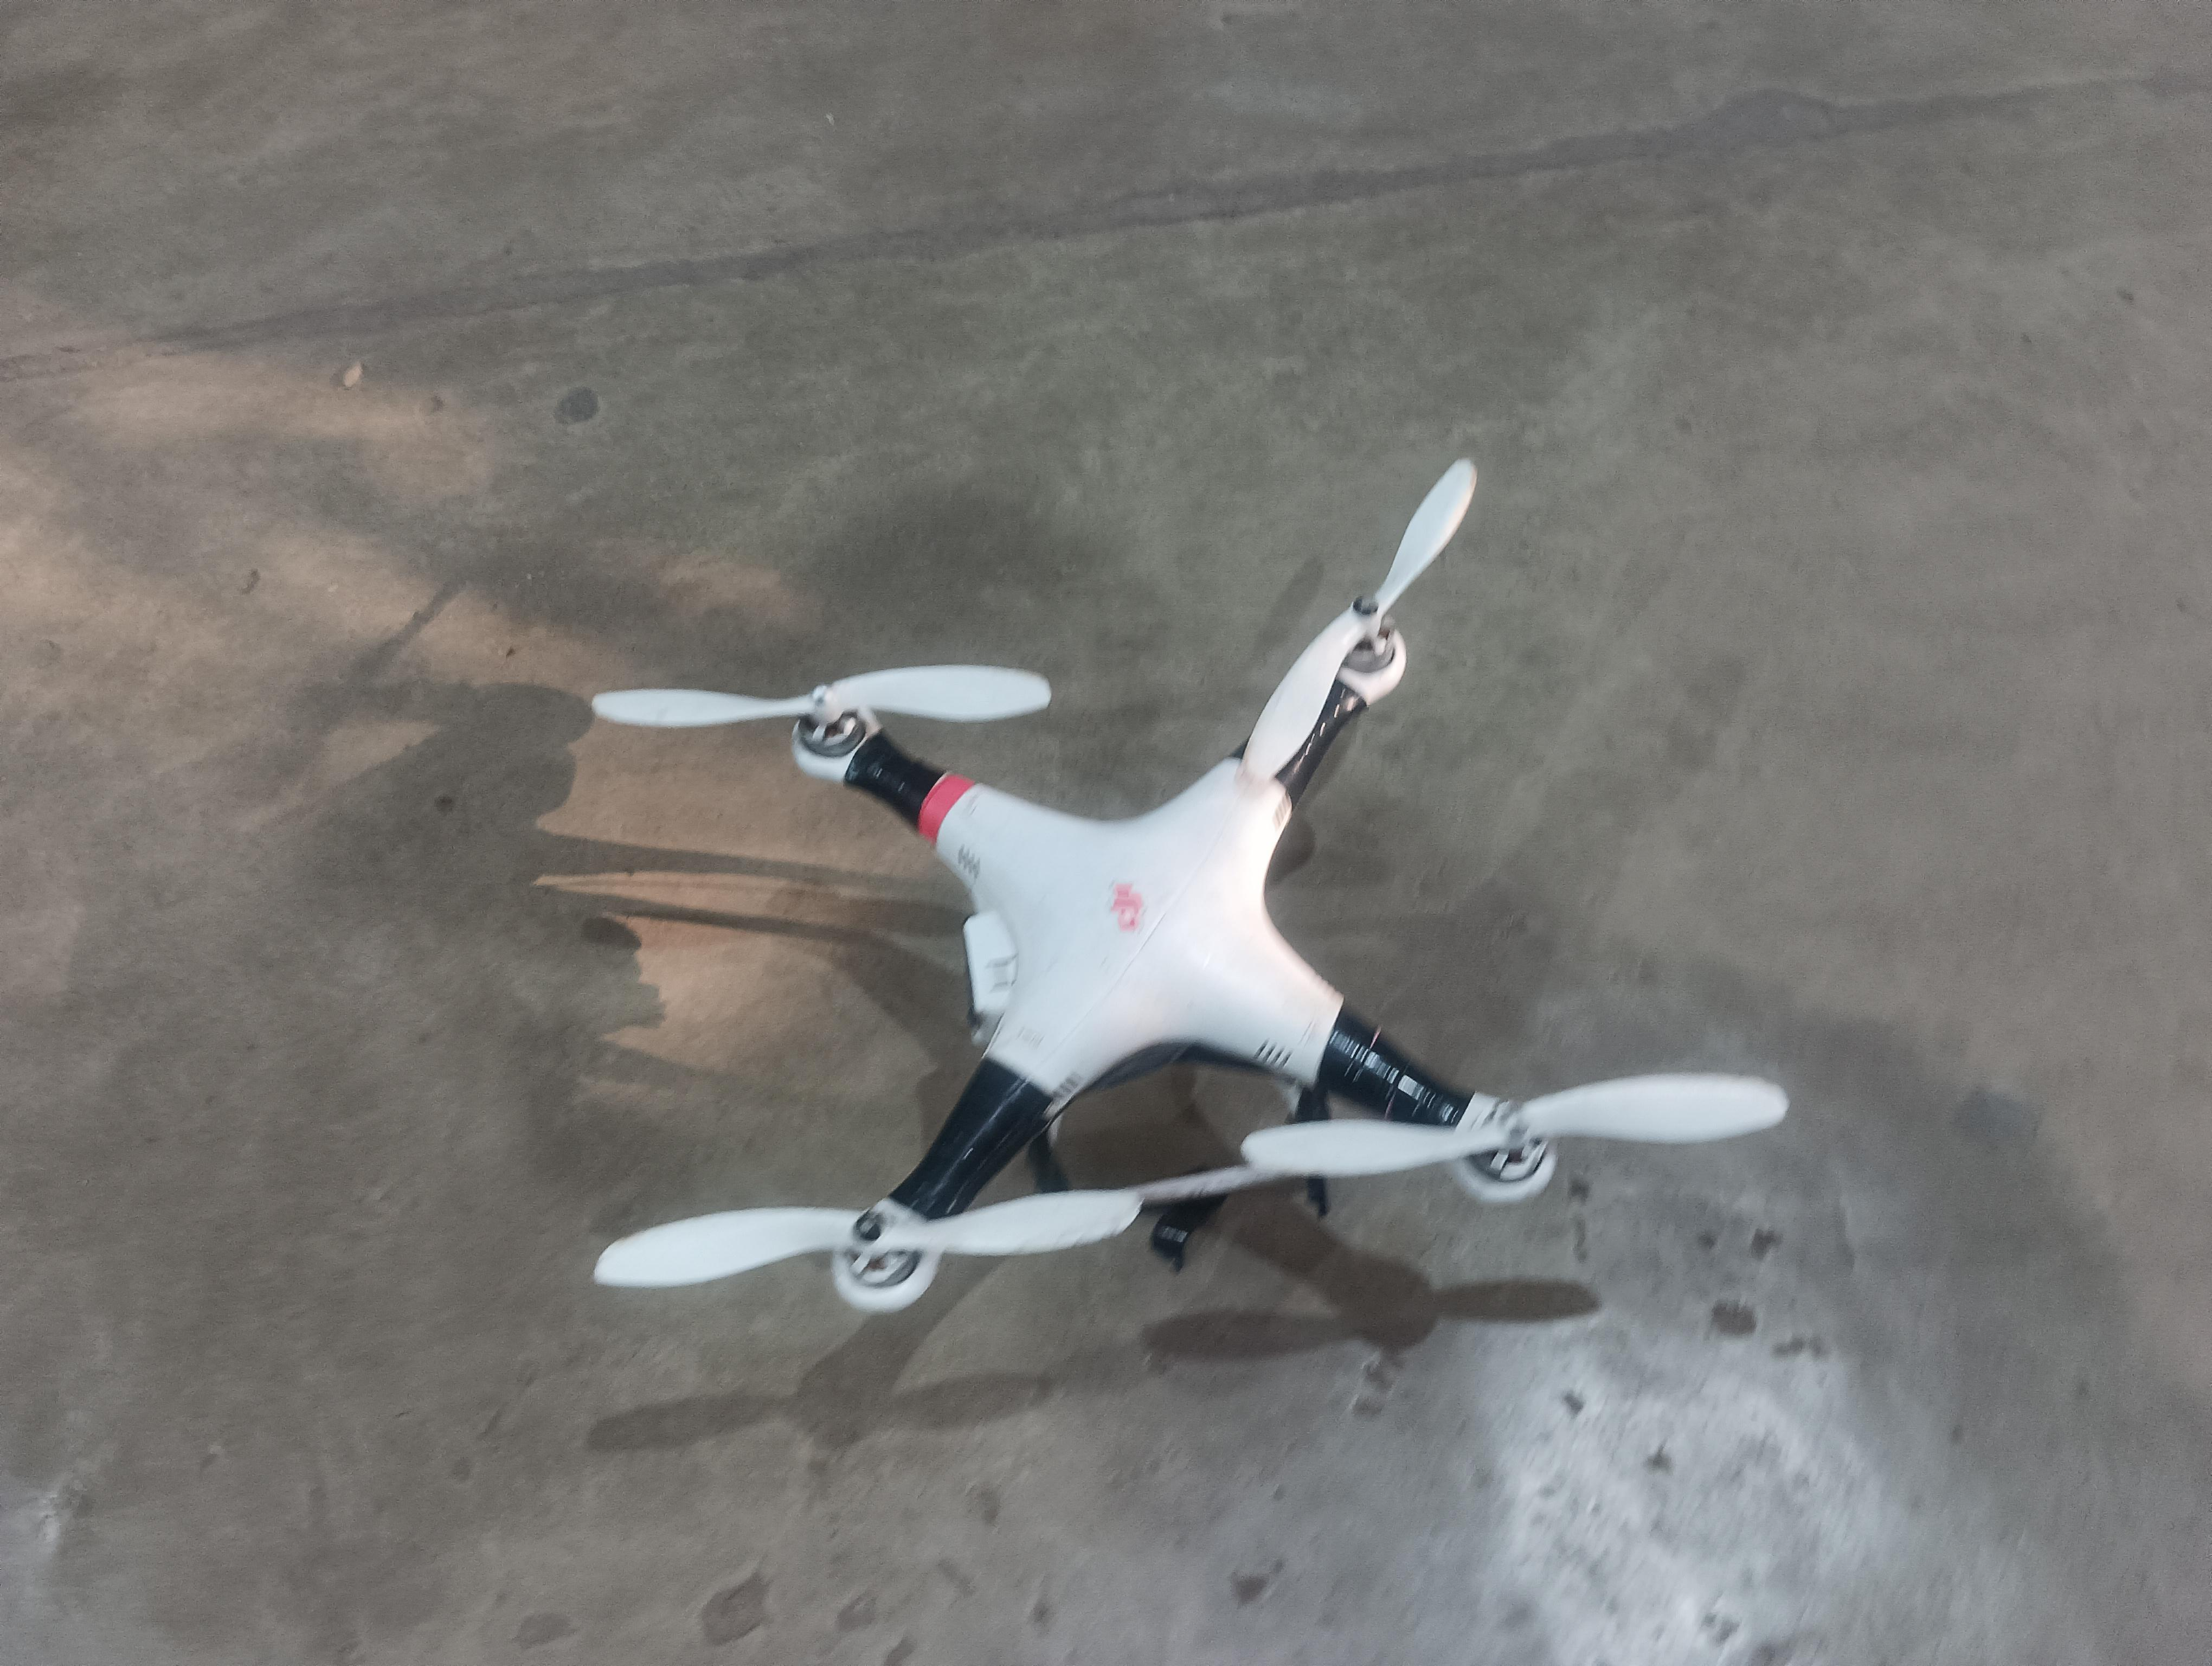drone: (430, 397, 1880, 1381)
